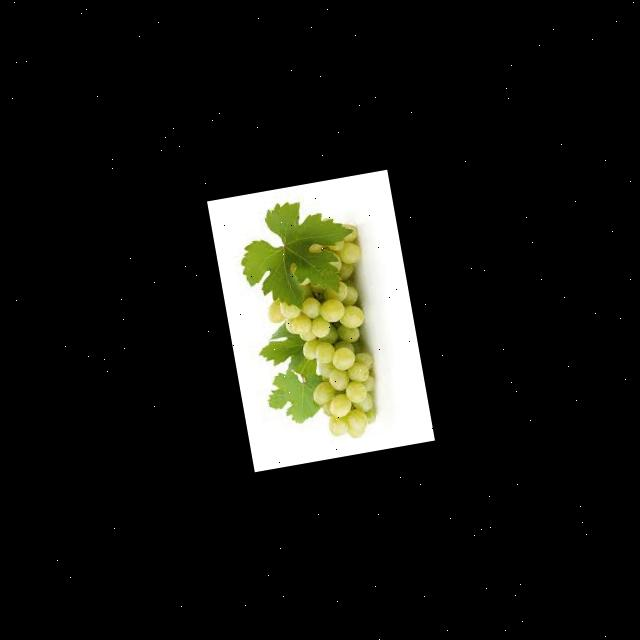grape: (252, 221, 391, 450)
